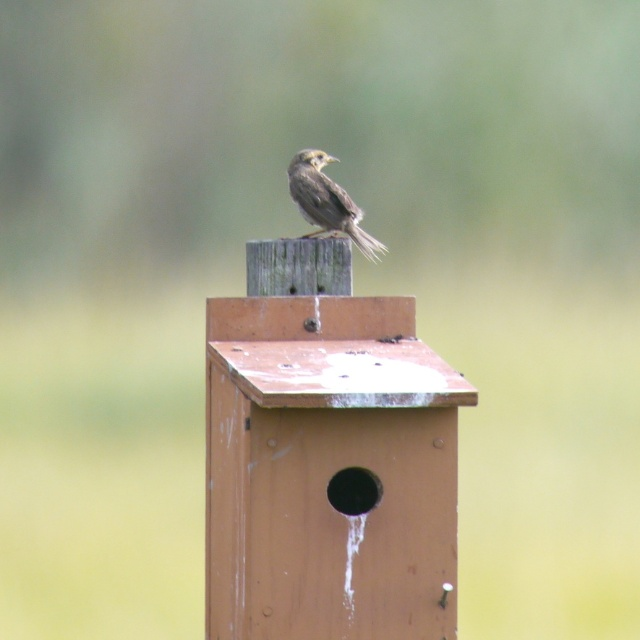Sparrow: (287, 145, 388, 264)
